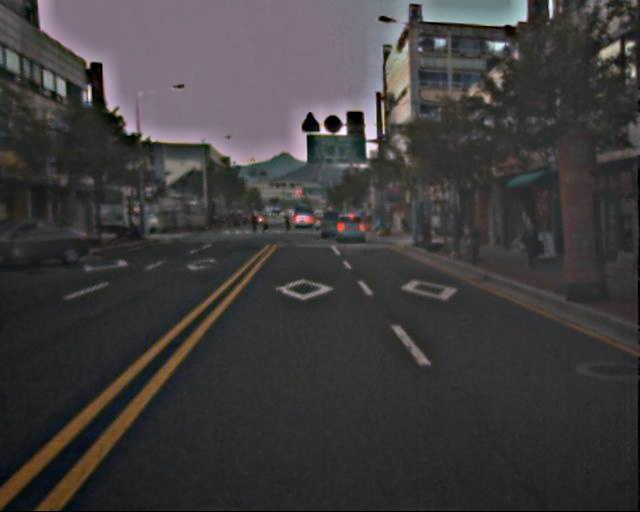person: (516, 211, 542, 268)
